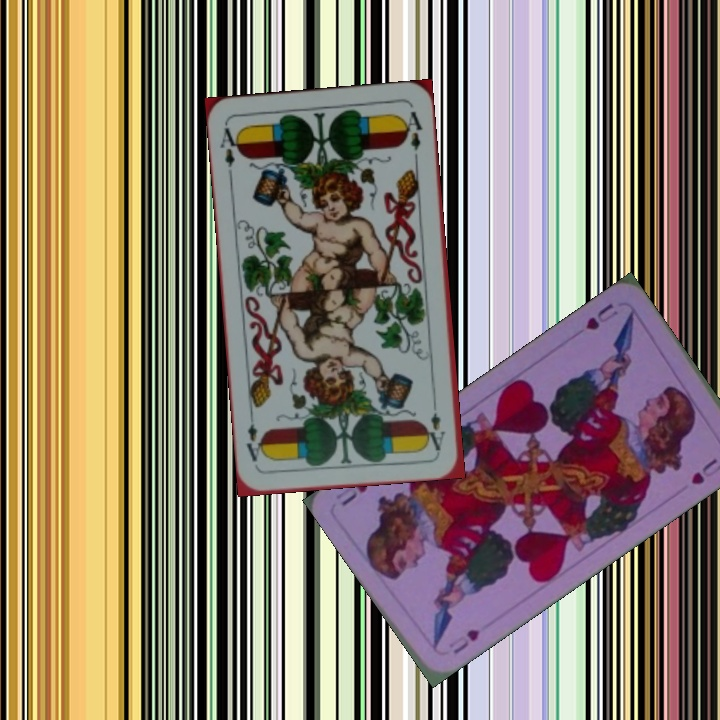EA: (215, 121, 243, 180), (426, 394, 448, 454)
HU: (581, 298, 621, 333), (444, 625, 483, 657)
